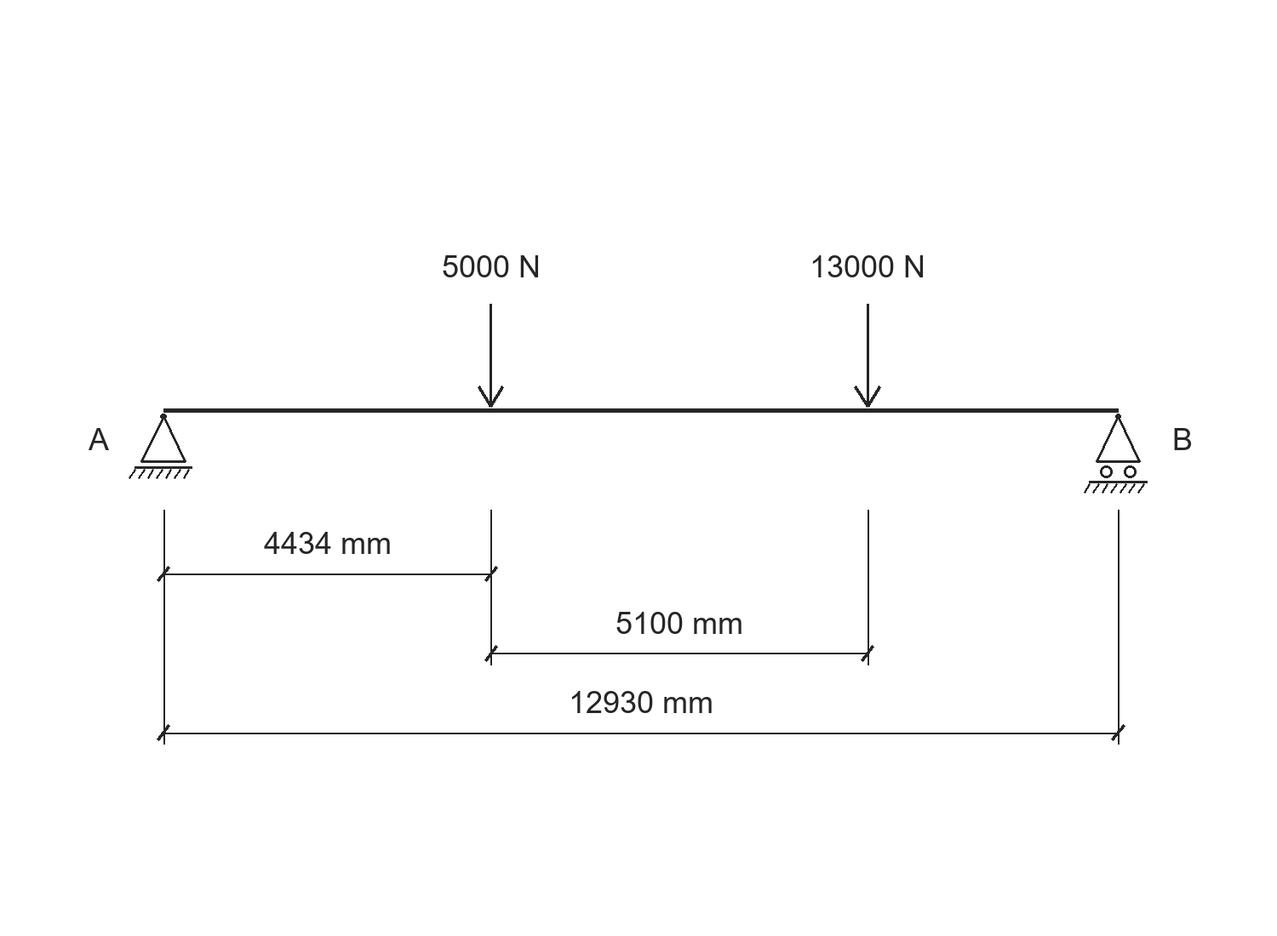pin_support: (129, 414, 192, 479)
point_load: (854, 304, 881, 408), (478, 304, 504, 408)
roller_support: (1084, 414, 1148, 494)
